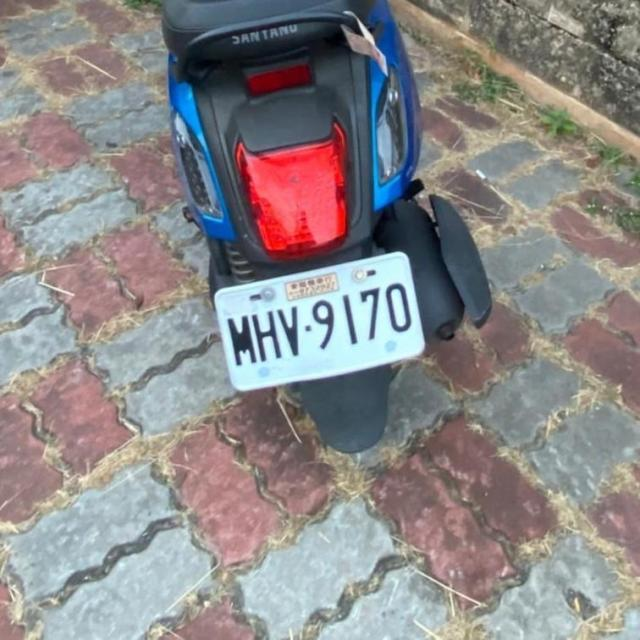W: (209, 248, 430, 396)
